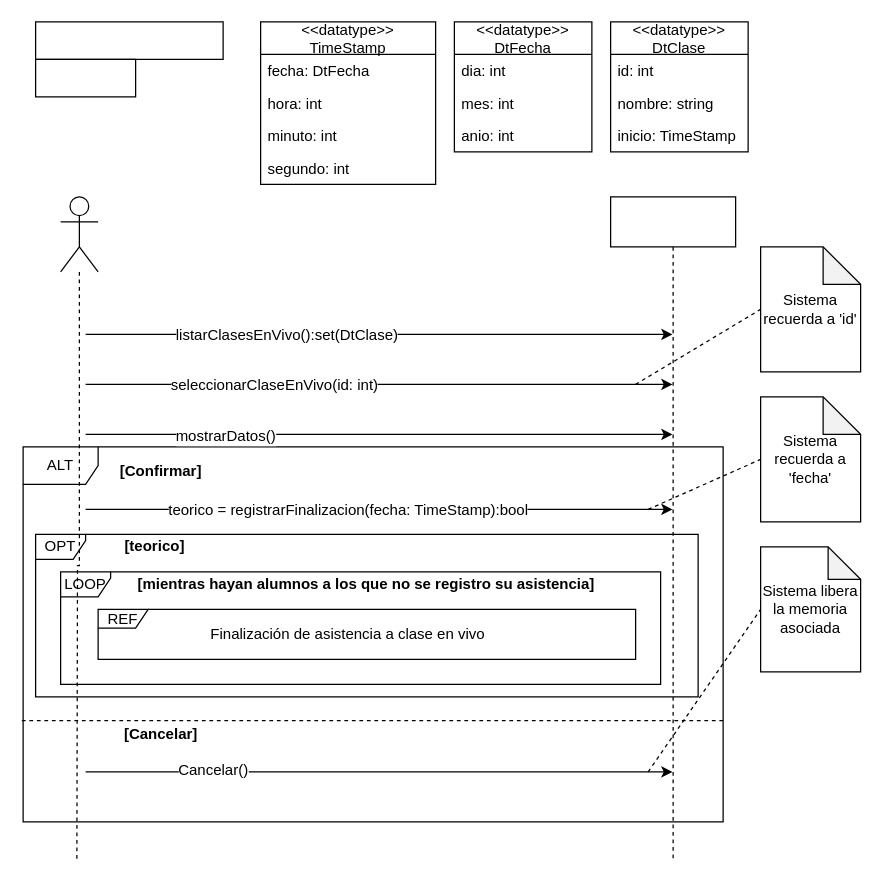
The diagram is 883 pixels wide and 883 high, and some of its shapes have lost their labels. Each missing label, with the centre of its shape:
":Sistema" goes at [672,527].
"Con memoria" goes at [85,77].
"Docente" goes at [78,234].
"Finalización de clase" goes at [128,40].
